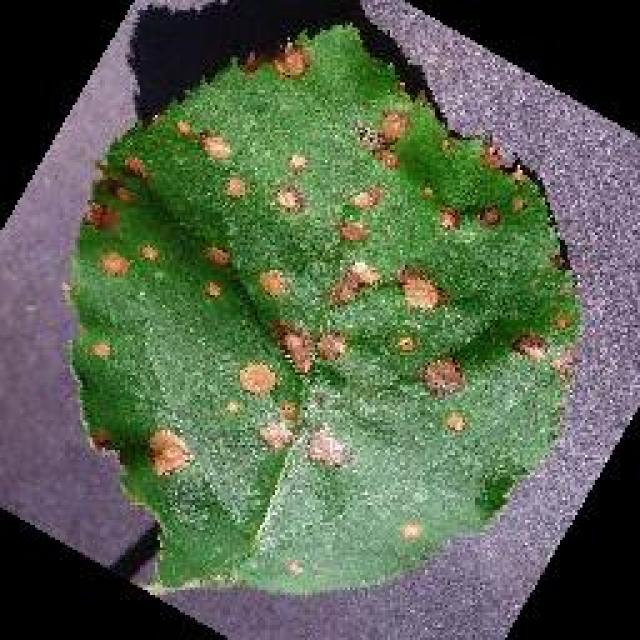Black_rot: (65, 17, 585, 595)
